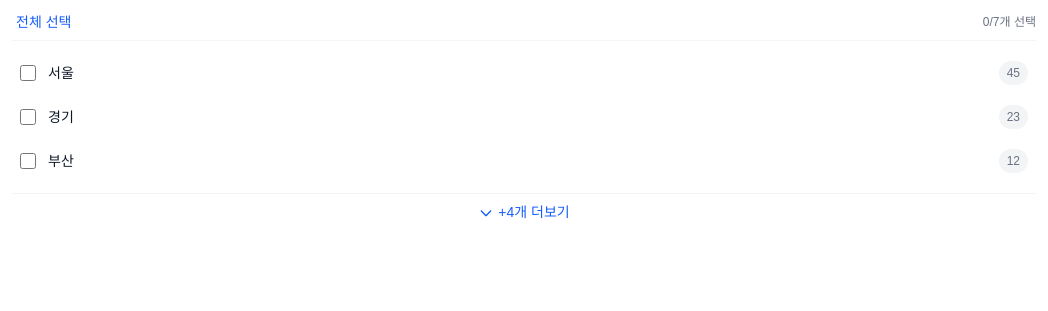
Test: CheckboxFilter › should expand to show all options when 더보기 is clicked
Click the button "+4개 더보기": (524, 212) top-left (12, 193), bottom-right (1036, 230)
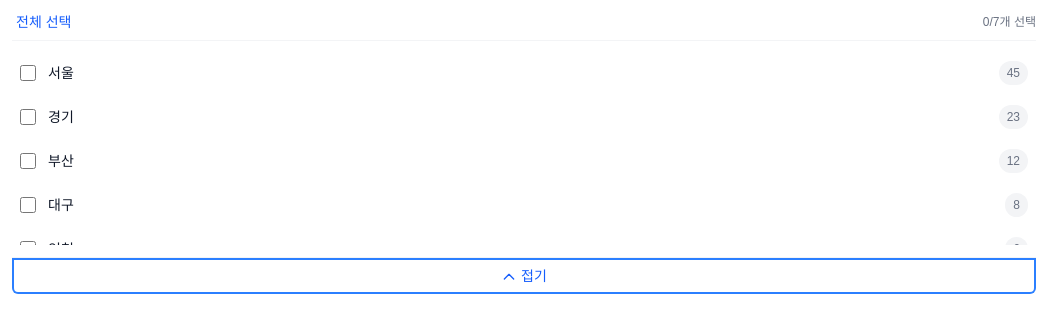
Now the text "대구" is shown, box top-left (48, 197), bottom-right (74, 213)
Now the button "접기" is shown, box top-left (12, 257), bottom-right (1036, 294)
